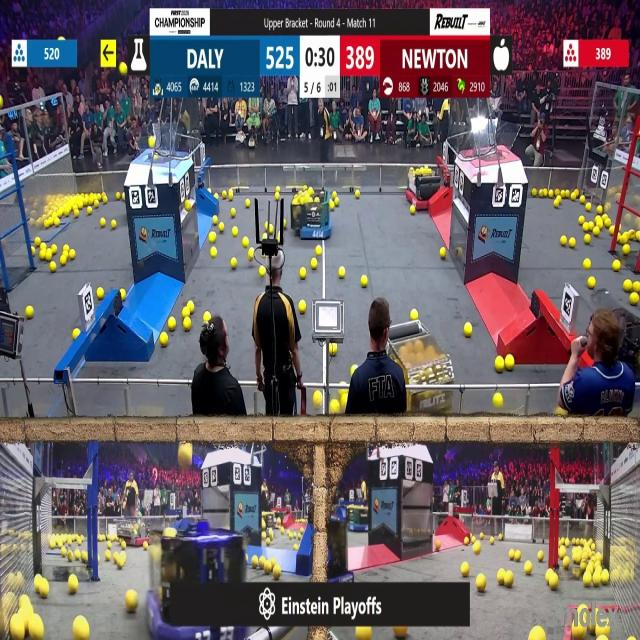ball_airborne: (178, 446, 192, 466), (118, 61, 128, 75), (148, 137, 154, 148), (152, 152, 158, 160), (0, 97, 4, 108)
ball_ground: (127, 591, 138, 613), (356, 626, 371, 640), (530, 628, 544, 640), (478, 576, 487, 594), (394, 626, 406, 639), (39, 582, 48, 599), (504, 355, 514, 370), (69, 578, 78, 594), (503, 570, 512, 586), (329, 398, 338, 414), (313, 391, 322, 407), (495, 356, 504, 371), (550, 574, 559, 589), (493, 393, 502, 407), (464, 322, 472, 337), (461, 562, 469, 576), (274, 564, 282, 578), (601, 570, 609, 584), (594, 572, 602, 586), (630, 291, 638, 304), (584, 573, 592, 586), (27, 306, 34, 320), (497, 570, 504, 584), (624, 280, 632, 292), (162, 334, 169, 347), (298, 302, 305, 315), (183, 318, 190, 331), (525, 562, 532, 575), (411, 310, 419, 321), (584, 260, 592, 271), (328, 344, 336, 355), (187, 303, 195, 314), (622, 234, 630, 245), (169, 318, 176, 330), (589, 277, 596, 289), (614, 262, 622, 272), (72, 328, 80, 338), (116, 558, 124, 568), (563, 558, 570, 569), (81, 552, 88, 563), (340, 267, 346, 279), (312, 260, 318, 272), (252, 556, 258, 568), (559, 548, 565, 560), (266, 562, 272, 574), (556, 409, 564, 418), (204, 312, 211, 322), (243, 238, 250, 248), (210, 234, 217, 244), (473, 542, 480, 552), (69, 250, 76, 260), (61, 255, 68, 265), (182, 308, 189, 318), (595, 216, 602, 226), (361, 276, 367, 287), (98, 288, 104, 299), (258, 267, 264, 278), (624, 244, 630, 255), (248, 249, 254, 260), (119, 288, 125, 299), (516, 551, 522, 562), (634, 281, 640, 292), (258, 556, 264, 567), (543, 188, 551, 196), (507, 551, 514, 560), (211, 248, 217, 258), (299, 269, 305, 279), (50, 264, 56, 274), (316, 246, 322, 256), (441, 248, 447, 258), (232, 258, 238, 268), (569, 238, 575, 248), (537, 552, 543, 562), (561, 237, 567, 247), (586, 235, 592, 245), (185, 201, 191, 211), (594, 228, 600, 238), (39, 250, 45, 260), (75, 551, 81, 561), (45, 251, 51, 261), (68, 552, 74, 562), (578, 562, 584, 572), (596, 207, 603, 215), (218, 222, 224, 231), (435, 539, 441, 548), (105, 552, 111, 561), (270, 224, 276, 233), (53, 243, 58, 253), (113, 553, 118, 563), (604, 217, 609, 227), (94, 202, 101, 209), (227, 190, 233, 198), (328, 202, 334, 210), (570, 192, 576, 200), (561, 188, 567, 196), (411, 206, 416, 215), (578, 215, 583, 224), (555, 199, 560, 208), (111, 219, 116, 228), (609, 225, 614, 234), (584, 222, 589, 231), (74, 209, 79, 218), (35, 238, 40, 247), (64, 246, 69, 255), (263, 533, 268, 542), (618, 234, 622, 245), (212, 216, 218, 223), (264, 234, 270, 241), (586, 205, 592, 212), (101, 218, 106, 226), (355, 190, 360, 198), (464, 536, 469, 544), (234, 228, 238, 238), (232, 209, 237, 217), (266, 222, 270, 232), (107, 540, 112, 548), (336, 200, 341, 208), (99, 534, 104, 542), (56, 218, 61, 226), (32, 247, 36, 256), (283, 219, 287, 228), (292, 543, 298, 549), (532, 188, 537, 195), (579, 198, 584, 205), (276, 185, 281, 192), (116, 191, 120, 199), (89, 207, 93, 215), (276, 192, 280, 200), (243, 201, 247, 209), (277, 234, 281, 242), (636, 233, 640, 241), (120, 191, 124, 199), (120, 542, 125, 548), (470, 536, 475, 542), (490, 537, 494, 544), (102, 197, 106, 204), (499, 534, 503, 540), (215, 194, 218, 202), (481, 533, 485, 539), (144, 542, 148, 548)
goal: (465, 120, 521, 160), (128, 132, 187, 160)
robot_blue: (148, 529, 244, 637), (292, 186, 334, 241), (620, 311, 640, 397), (347, 508, 370, 532)
robot_red: (386, 319, 456, 412), (405, 164, 442, 208), (117, 516, 151, 547)
